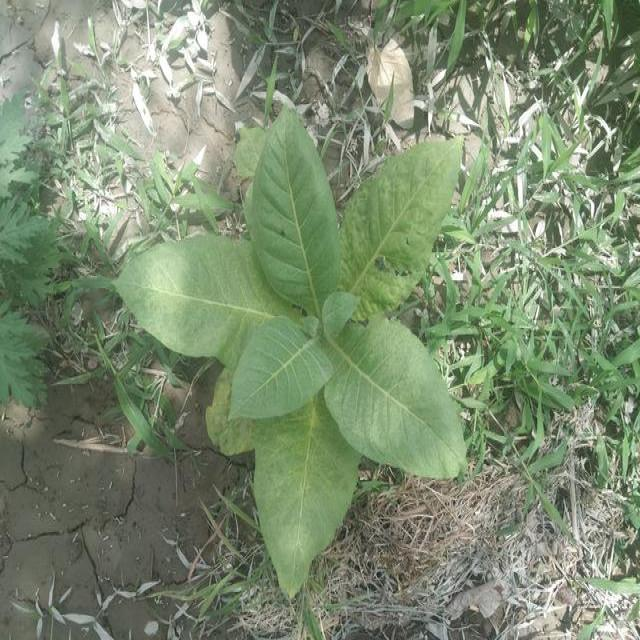crop: (111, 106, 476, 601)
